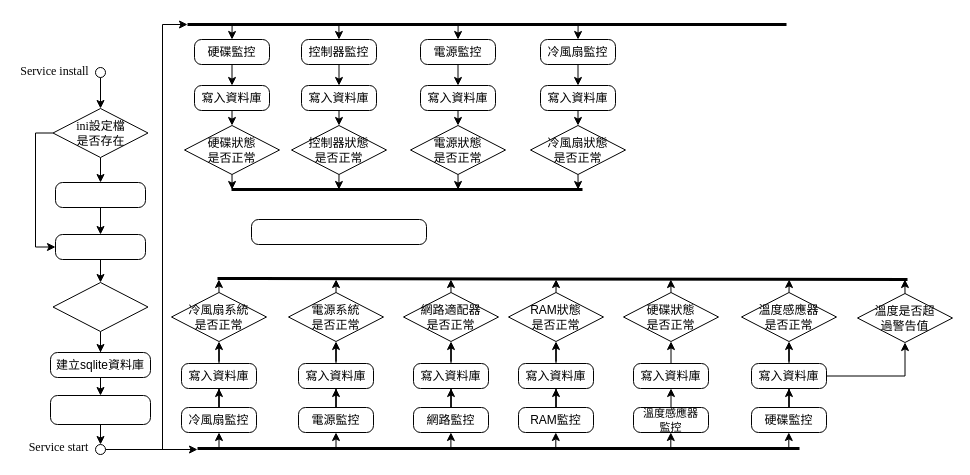
Some shapes in this 970 by 475 pixel diagram are drawn without their labels. The shapes that lost their labels are listed below. From the top down, each one's centre as x and y in pixels, then its label:
pixel 100 195: 建立ini檔
pixel 100 247: 讀取ini檔設定
pixel 338 231: 連續發送Line通知發生異常
pixel 100 307: sqlite 資料庫 是否存在
pixel 100 409: 發送Line通知 監控系統啟動
